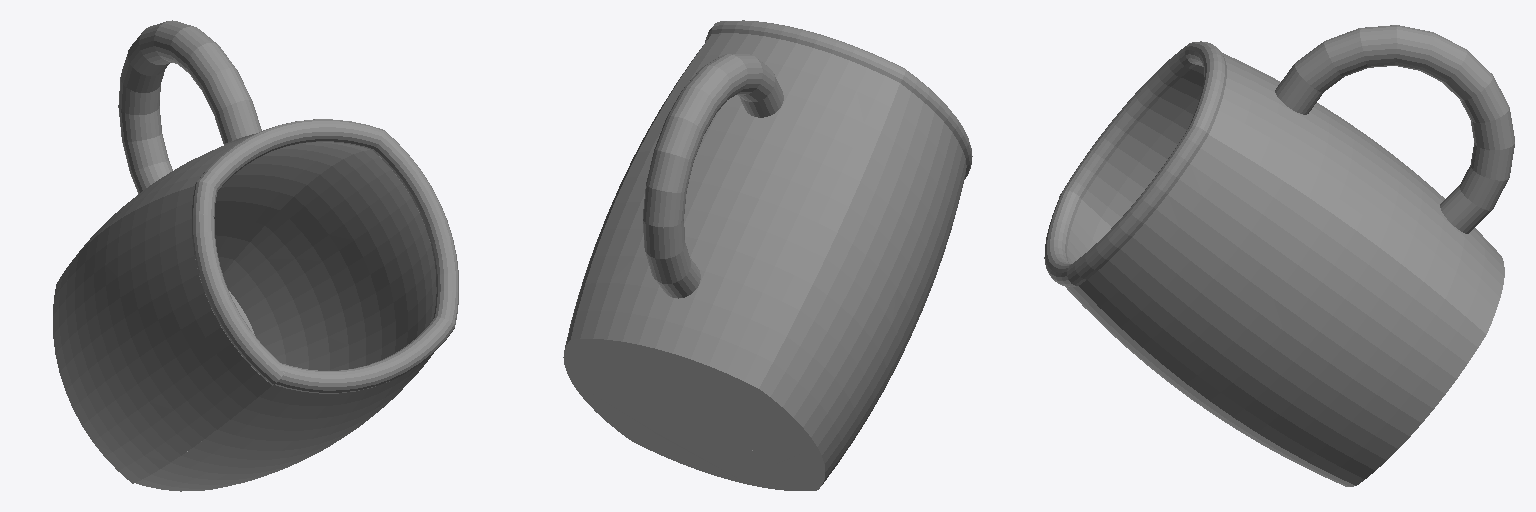
URDF robot description (cube.urdf):
<?xml version="0.0" ?> 
<robot name="cube.urdf"> 
<link name="legobrick"> 
<contact> 
<lateral_friction value="1.0"/>
<rolling_friction value="0.0"/>
<contact_cfm value="0.0"/>
<contact_erp value="1.0"/>
</contact> 
<inertial> 
<origin rpy="0 0 0" xyz="0.0 0.0 0.0"/> 
<mass value="0.1"/> 
<inertia ixx="1" ixy="0" ixz="0" iyy="1" iyz="0" izz="1"/> 
</inertial> 
<visual> 
<origin rpy="1.570796 0 0" xyz="0.00029205609195402465 0.0013351439080459783 -0.002913066666666665"/> 
<geometry> 
<mesh filename="6faf1f04bde838e477f883dde7397db2.obj" scale="1 1 1"/> 
</geometry> 
<material name="yellow"> 
<color rgba="0.6 0.6 0.6 1"/> 
</material> 
</visual> 
<collision> 
<origin rpy="1.570796 0 0" xyz="0.00029205609195402465 0.0013351439080459783 -0.002913066666666665"/> 
<geometry> 
<mesh filename="6faf1f04bde838e477f883dde7397db2_col.obj" scale="1 1 1"/> 
</geometry> 
</collision> 
</link> 
</robot>

--- Facts derived from the render (not from the file) ---
3 views of the same robot in one strip: view 1: azimuth 30°, elevation 25°; view 2: azimuth 150°, elevation 25°; view 3: azimuth 270°, elevation 25° (orthographic).
Model cube.urdf with 1 links and 0 joints (none), rooted at legobrick, posed all joints at 0.
Links seen in each view (by area): view 1: legobrick; view 2: legobrick; view 3: legobrick.
Boxes of the visible links, bbox=[...] form: legobrick: bbox=[53, 20, 458, 491]; legobrick: bbox=[563, 20, 972, 490]; legobrick: bbox=[1044, 25, 1514, 486].
Bounding box of the posed robot: 0.0299 × 0.045 × 0.0459 m (x, y, z).
Meshes: 1 distinct files referenced, 1 mesh visuals loaded (1 OBJ).